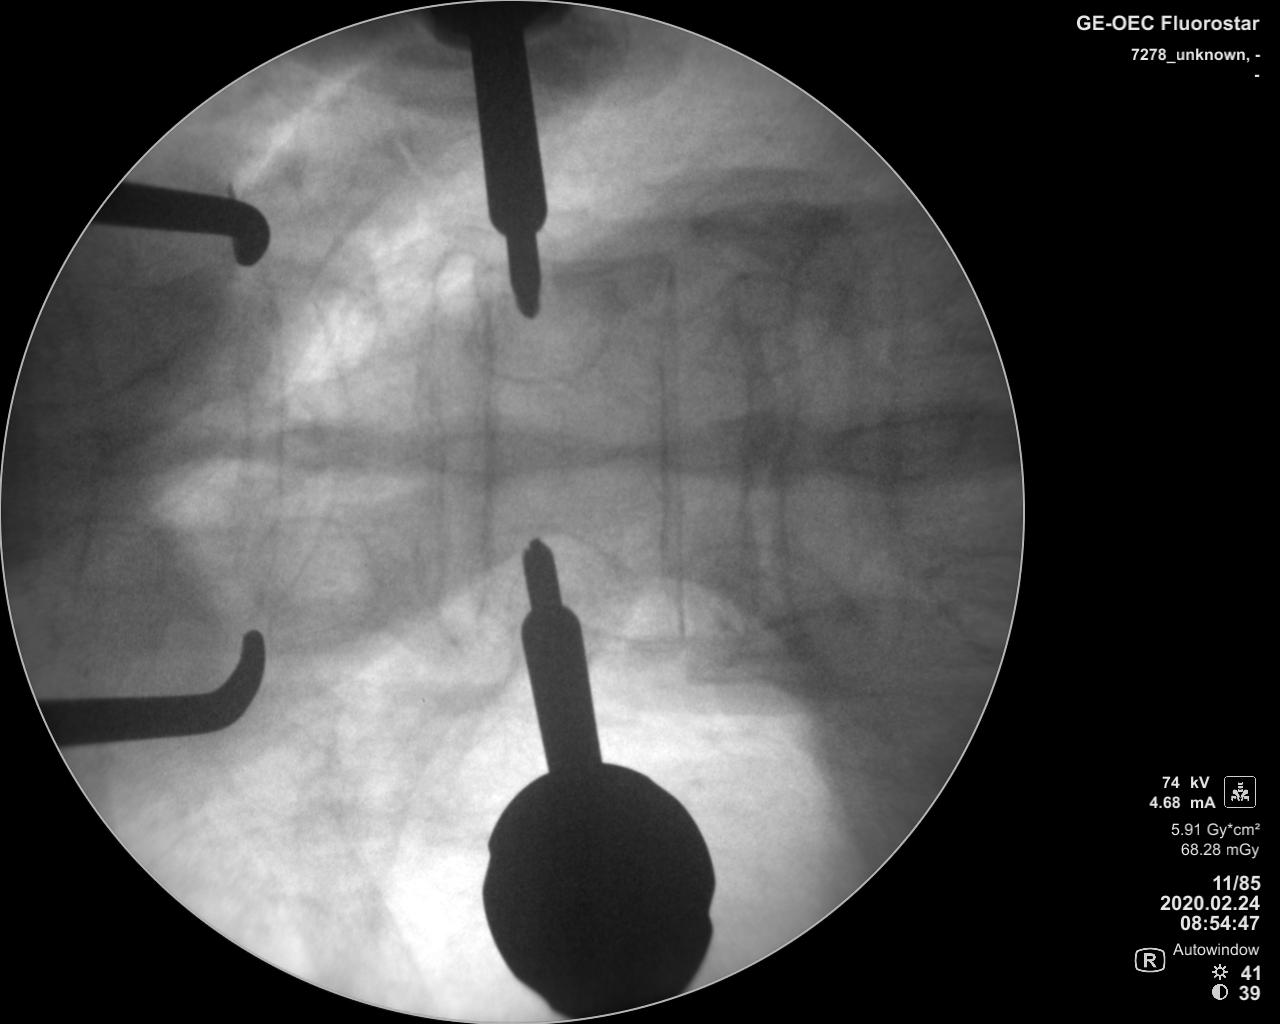eyes: (250, 259, 377, 383), (462, 284, 615, 383), (260, 514, 378, 624)
line: (652, 243, 696, 646), (415, 251, 455, 644), (468, 270, 504, 644)
nose: (814, 410, 980, 487), (408, 418, 589, 483), (629, 417, 810, 480), (232, 414, 378, 476)
